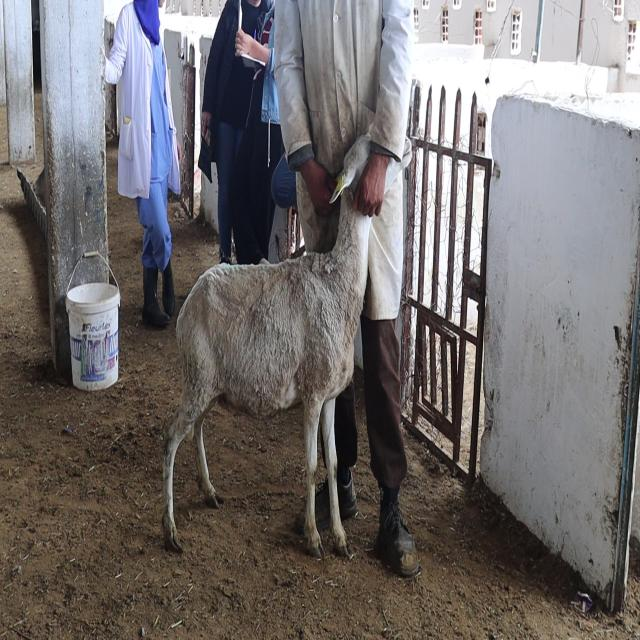Score_1: (162, 133, 374, 558)
